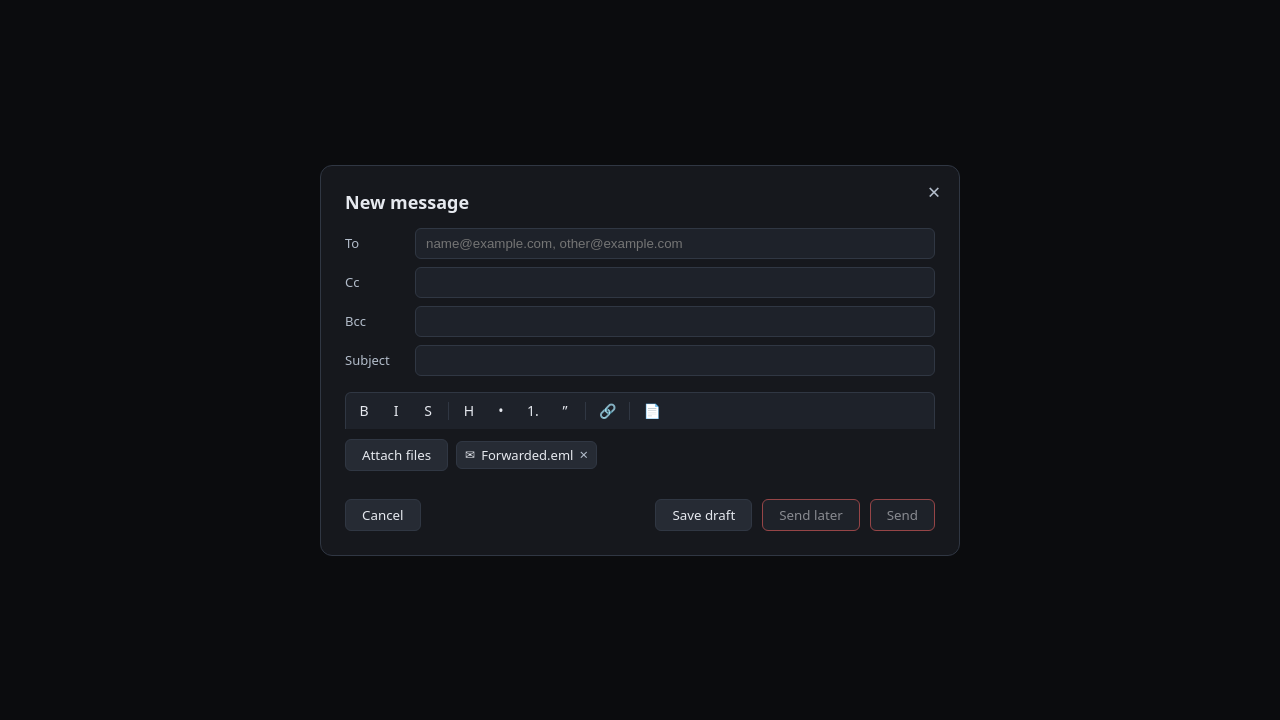
Test: ComposeModal: attachments › renders and removes an attached message
Expected: the text "Forwarded.eml" is shown, [481,446,574,464]
Click the button named "Remove Forwarded.eml".
click(584, 454)  # box [579,447,588,462]
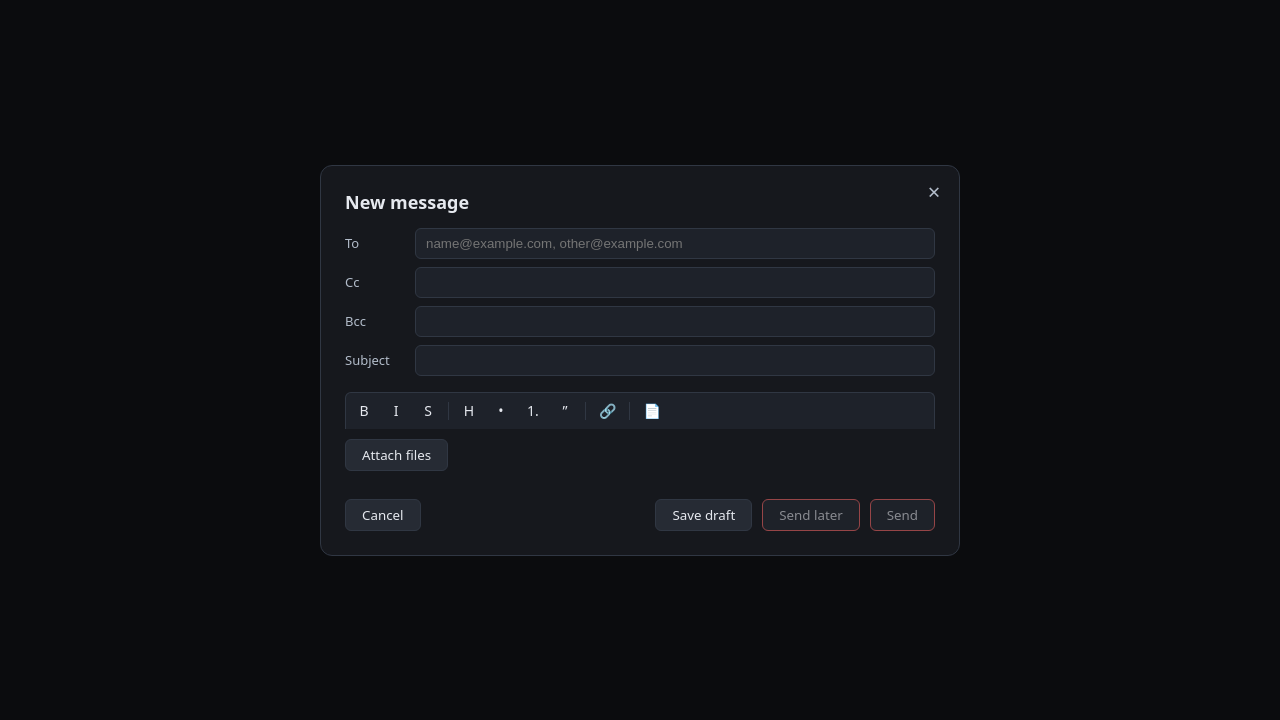
Result: the text "Forwarded.eml" is gone
